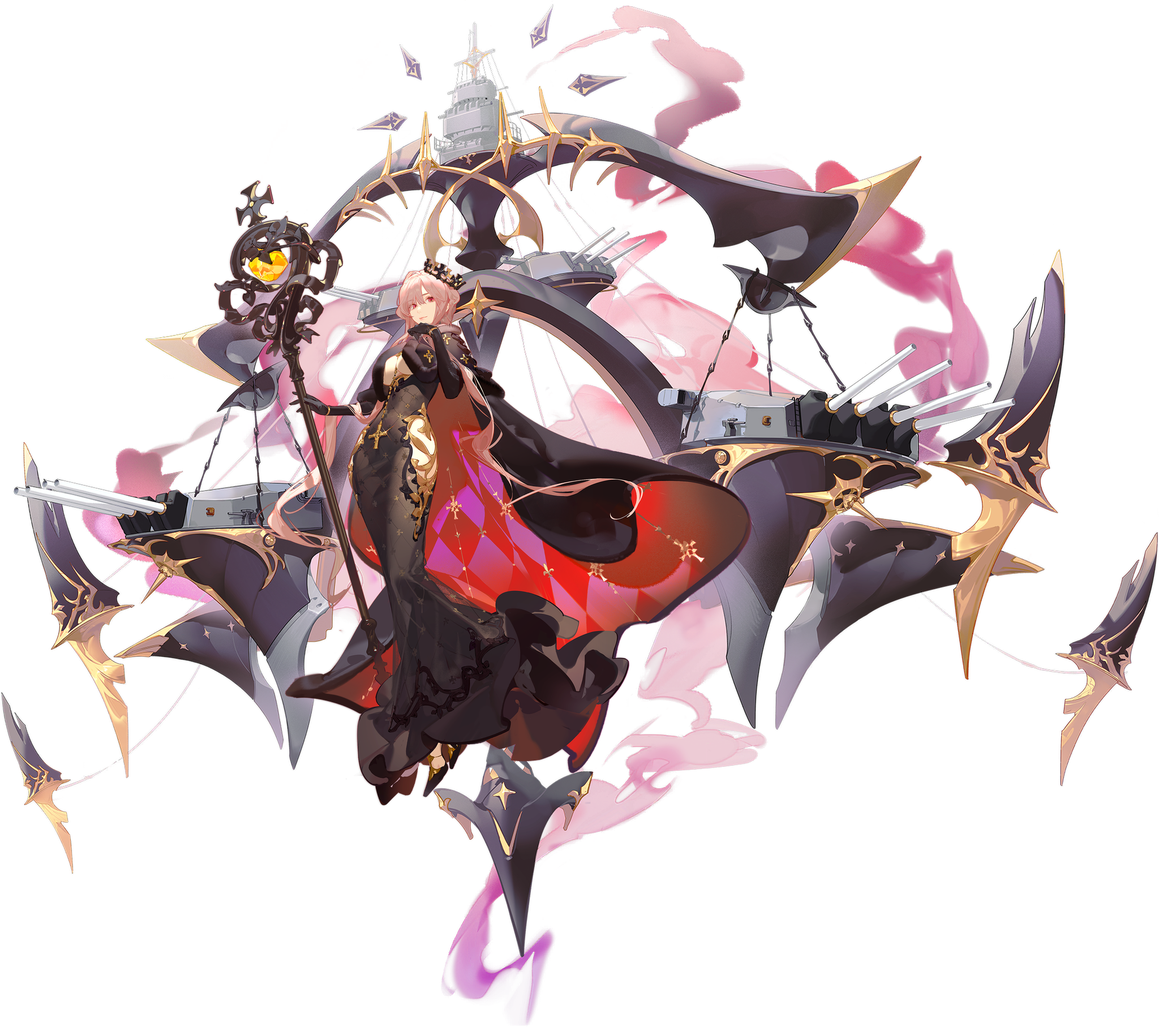person: (331, 243, 770, 1016)
